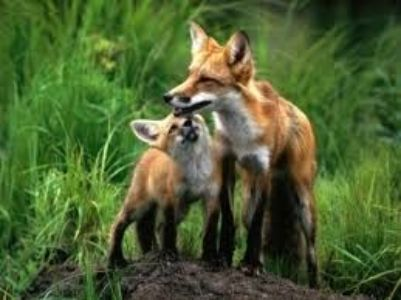fox: (170, 21, 324, 291), (103, 109, 222, 258)
